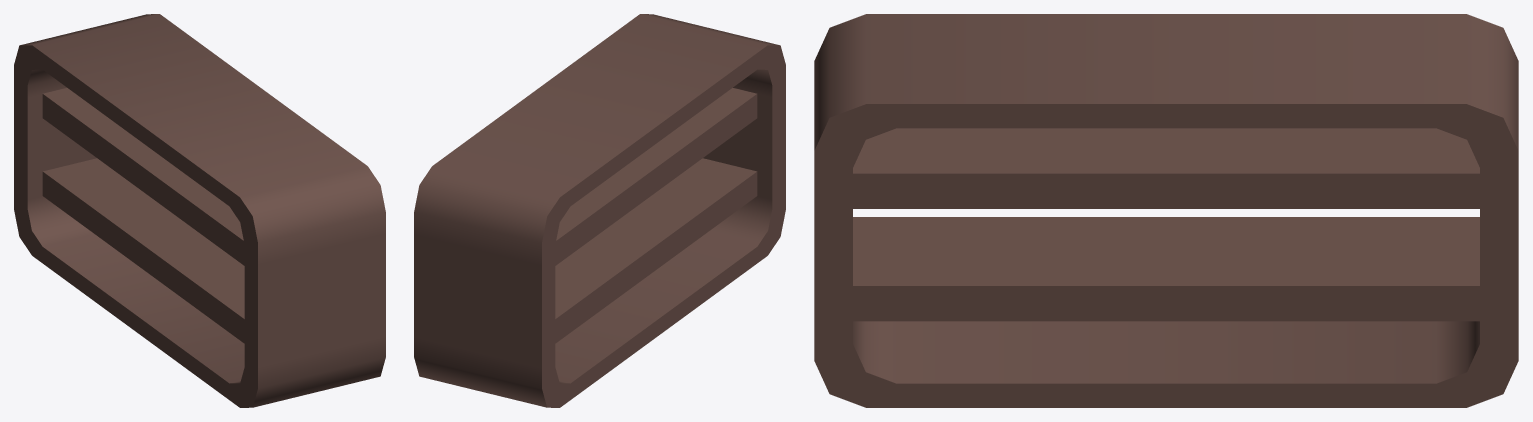
File: Shelf.fbx
3 renders of one model, left to right at view 1: azimuth 30°, elevation 25°; view 2: azimuth 150°, elevation 25°; view 3: azimuth 270°, elevation 25°, orthographic. The views are drawn at different scales.
Parts seen in each view (by area): view 1: Cube; view 2: Cube; view 3: Cube.
Part boxes in pixels (box(x1,y1,x2,y2)): Cube: box(14, 14, 385, 407); Cube: box(414, 14, 785, 407); Cube: box(814, 14, 1518, 407).
Size of the model in its own units: 47.76 by 75.17 by 158.
